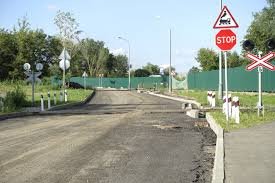1.2: (209, 5, 240, 27)
1.3.1: (245, 48, 274, 68)
